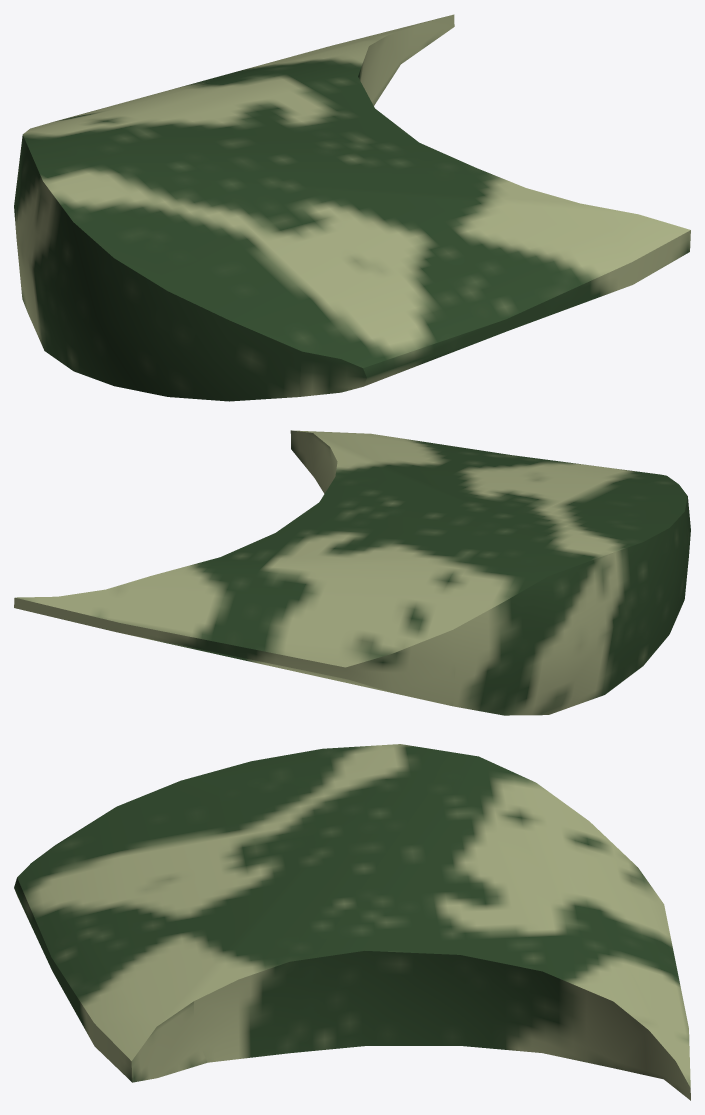
The model's file is link_body_36.obj.
3 renders of one model, top to bottom at view 1: azimuth 30°, elevation 25°; view 2: azimuth 150°, elevation 25°; view 3: azimuth 270°, elevation 25°, orthographic. The views are drawn at different scales.
Parts seen in each view (by area): view 1: link_body_36; view 2: link_body_36; view 3: link_body_36.
Part boxes in pixels (x1,y1,x2,y2): link_body_36: (14, 14, 690, 401); link_body_36: (14, 430, 690, 715); link_body_36: (14, 744, 690, 1100).
Bounding box in the file's own units: 7.52 × 2.09 × 7.78.
